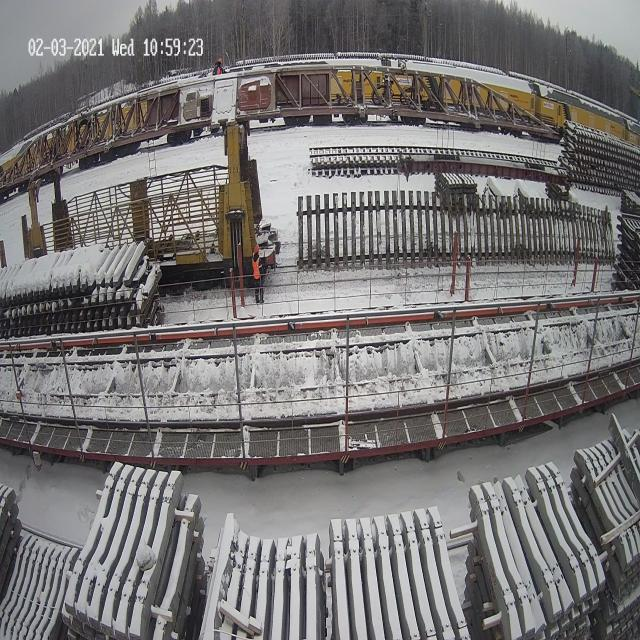Person: (252, 245, 265, 306), (212, 51, 228, 76)
